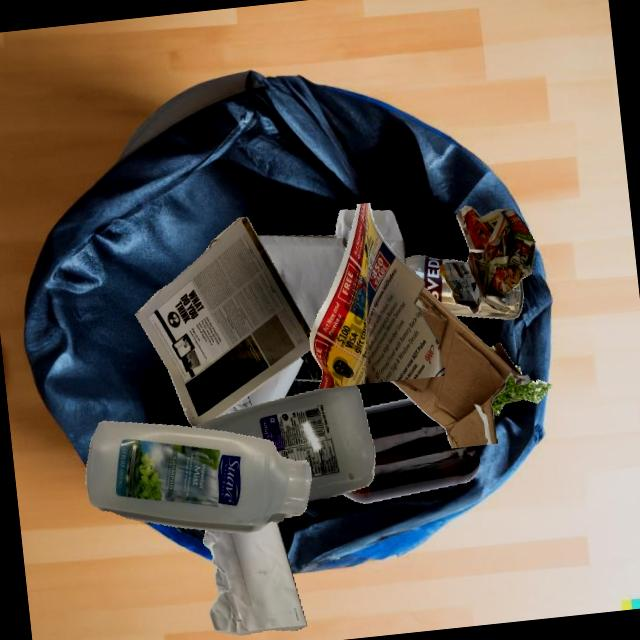biowaste: (492, 374, 538, 415), (527, 379, 552, 403)
cardboard: (390, 286, 530, 448)
glass: (341, 398, 480, 503), (405, 255, 523, 319)
paper: (135, 216, 311, 427), (309, 202, 445, 389), (202, 520, 307, 634), (257, 209, 355, 327), (439, 205, 534, 314), (248, 357, 303, 406), (219, 396, 251, 416)
plastic: (85, 420, 311, 533), (195, 385, 375, 501), (294, 349, 321, 381)
